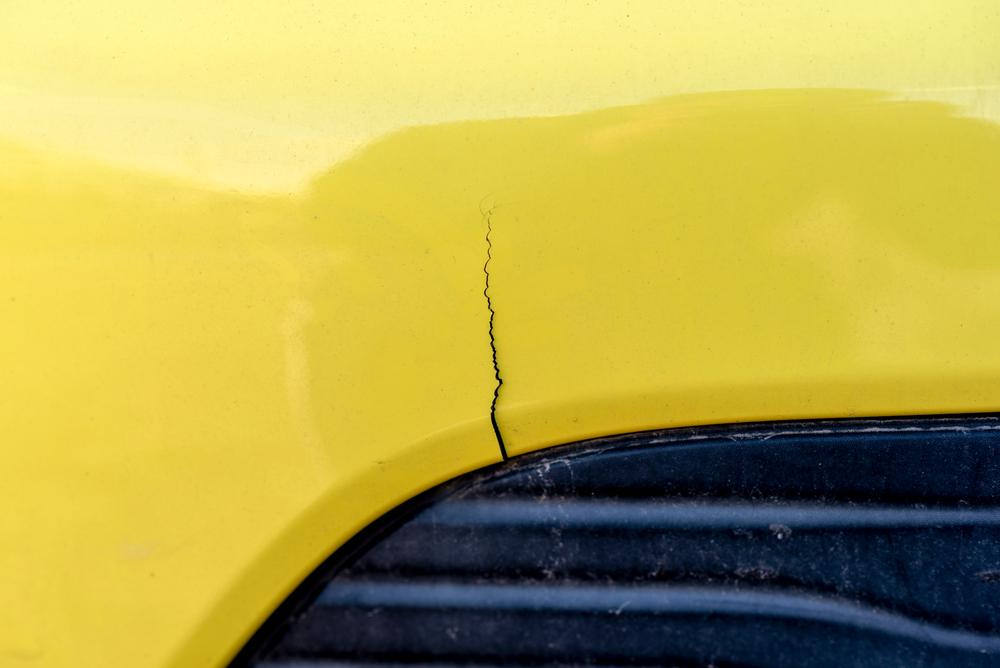crack: (482, 204, 509, 461)
